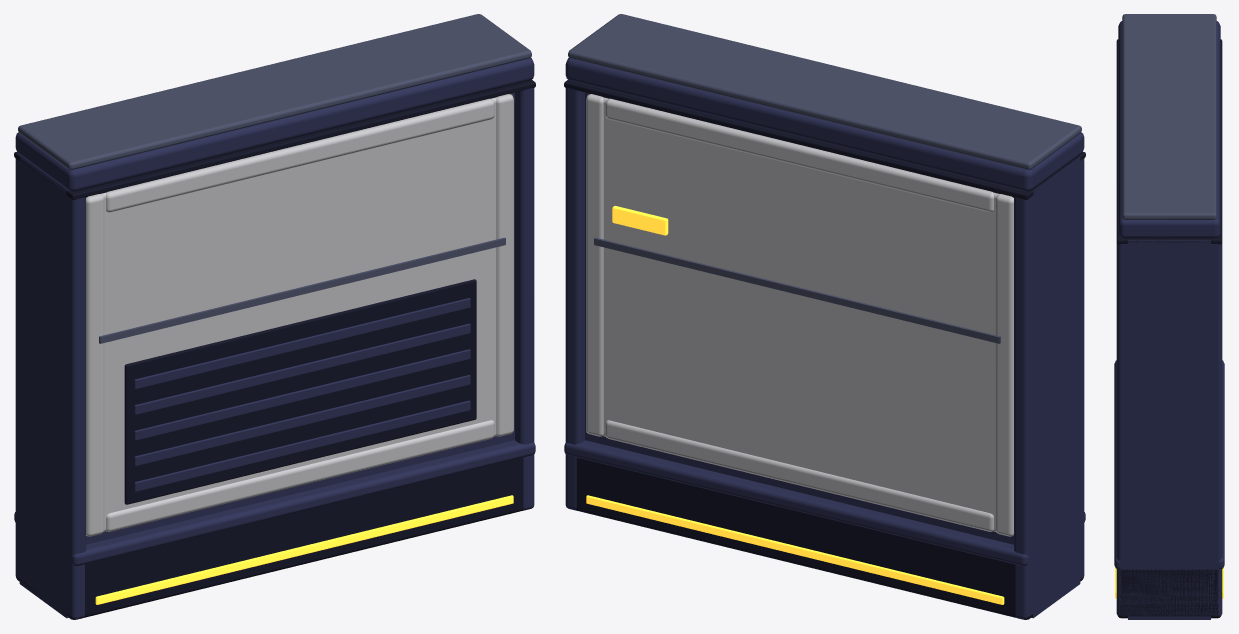
File: int.halfwall.l1.2.glb
3 renders of one model, left to right at view 1: azimuth 30°, elevation 25°; view 2: azimuth 150°, elevation 25°; view 3: azimuth 270°, elevation 25°, orthographic. The views are drawn at different scales.
Visible parts, largest first — view 1: int.halfwall.l1.2; view 2: int.halfwall.l1.2; view 3: int.halfwall.l1.2.
Part boxes in pixels (left/top/right/bottom): int.halfwall.l1.2: left=14, top=14, right=535, bottom=619; int.halfwall.l1.2: left=564, top=14, right=1085, bottom=619; int.halfwall.l1.2: left=1114, top=14, right=1224, bottom=619.
Size of the model in its own units: 1.21 by 1.13 by 0.278.
